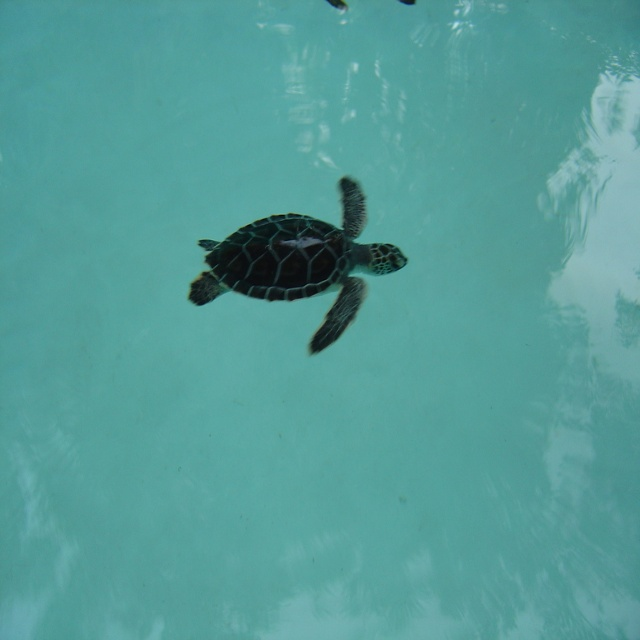Sea turtle: (189, 175, 415, 363)
